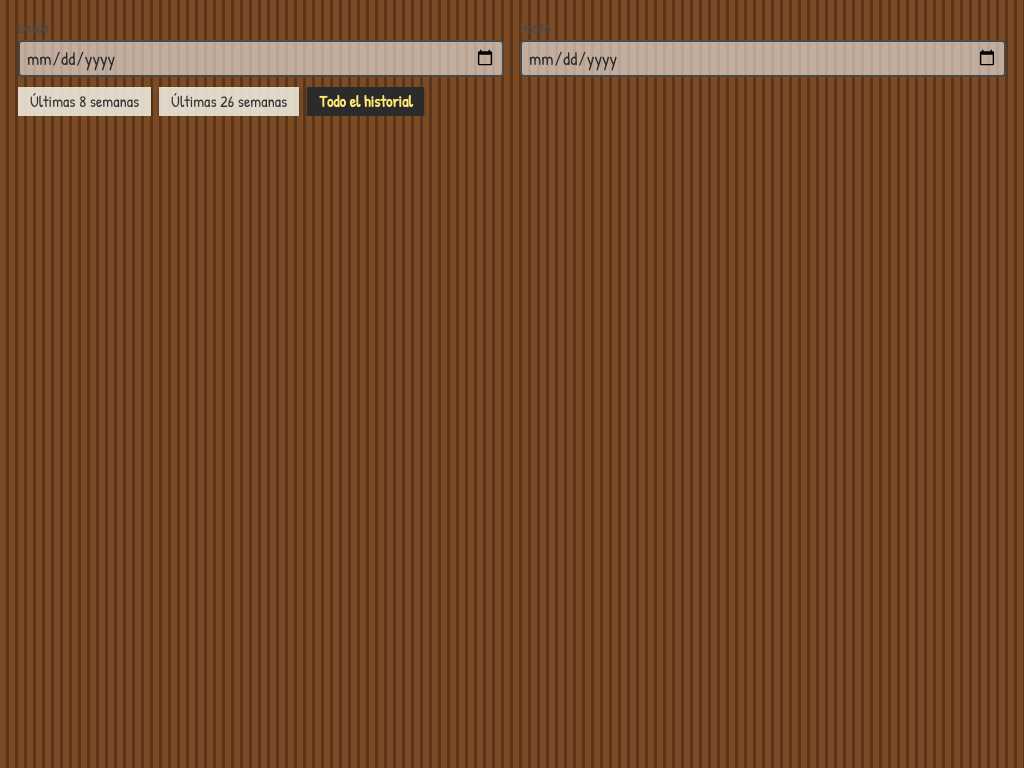
DateRangePicker › "Últimas 8 semanas" devuelve el rango de las últimas 8 semanas hasta hoy
What coordinates should you click on to do the following:
click the button "Últimas 8 semanas"
I would click on:
 (85, 102)
Its box is 18,87 -> 151,116.
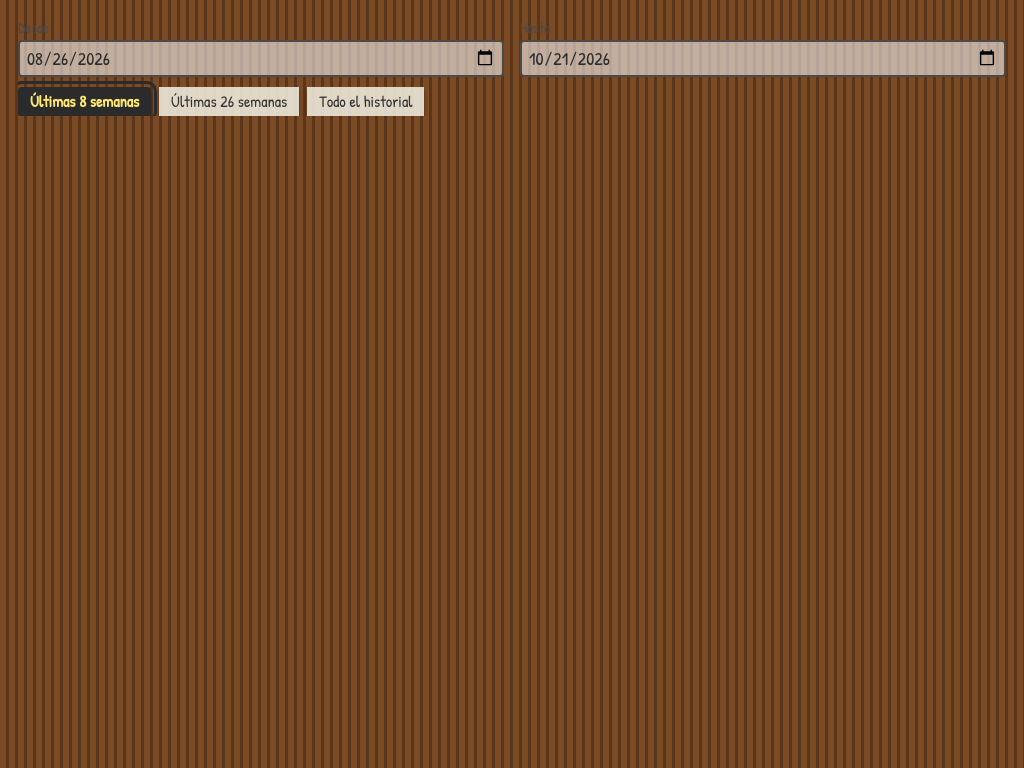
Result: the date field labelled "Desde" holds "2026-08-26" at 18,40 -> 504,77
Result: the date field labelled "Hasta" holds "2026-10-21" at 520,40 -> 1006,77
